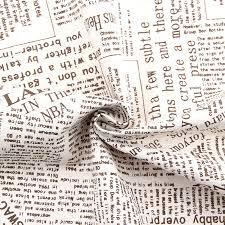Printing industry: (1, 1, 225, 225)
